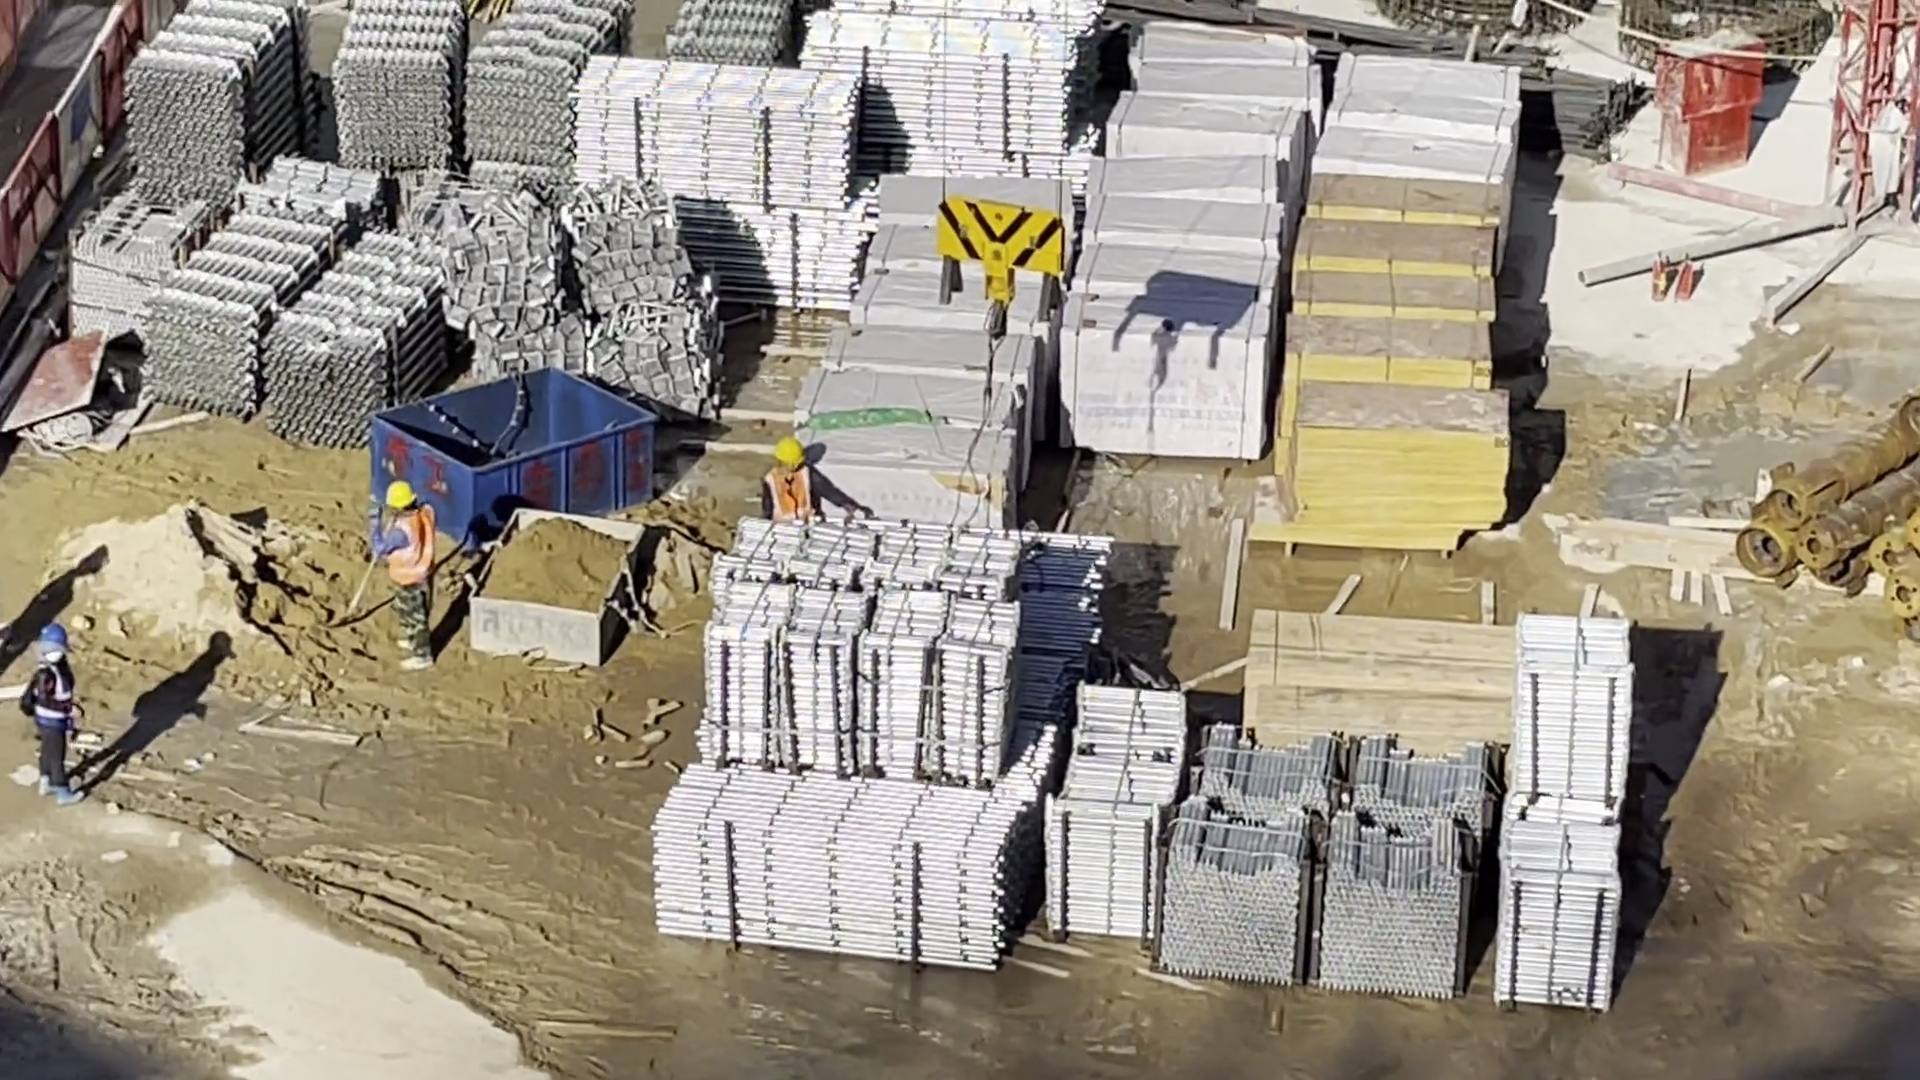helmet: (763, 425, 812, 476), (374, 484, 429, 523), (30, 624, 71, 663)
hook: (915, 178, 1089, 350)
hopper: (394, 359, 665, 514), (452, 489, 615, 634)
person: (334, 492, 456, 677), (746, 432, 872, 546), (16, 638, 91, 794)
scaffold: (723, 511, 1170, 975), (98, 8, 446, 442), (1185, 720, 1483, 1002), (593, 60, 852, 298), (1515, 600, 1645, 1044), (818, 1, 1070, 168), (464, 1, 583, 187)
vest: (375, 519, 439, 577), (762, 474, 821, 521)
